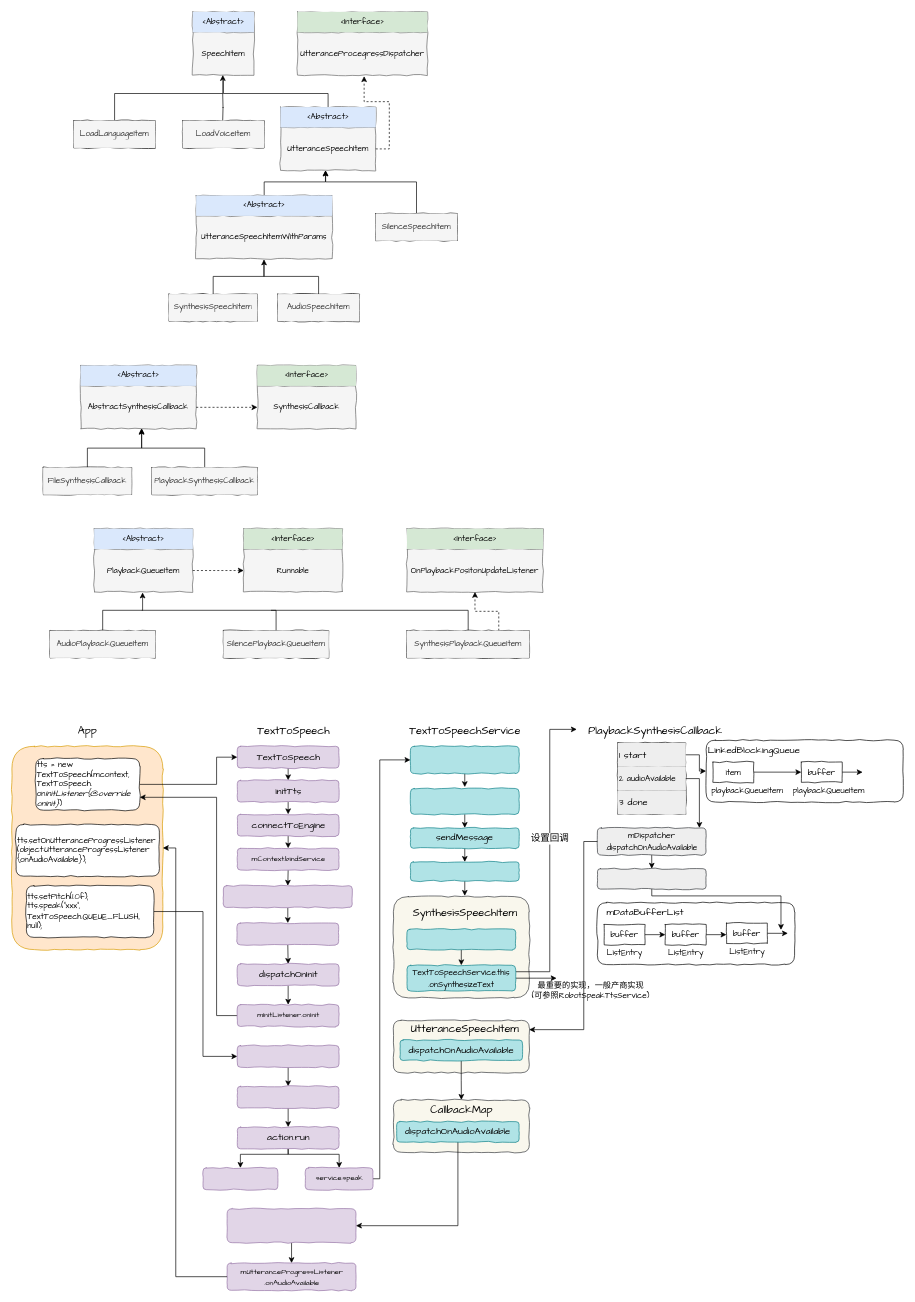
This 915x1302 diagram has some shape labels left out. The shapes that lost their labels are listed below. From the top down, each one's box as (x1, y1, x2, y2) in pixels, then its label:
(410, 746, 519, 774): new ITextToSpeechService .stub(){@speak}
(410, 788, 519, 814): mSynthHandler .enqueueSpeechItem
(410, 861, 519, 881): speechItem.play
(597, 868, 706, 889): item.put
(223, 885, 352, 907): Connection#onServiceConnected
(236, 922, 339, 945): setupConnectionAsyncTask
(406, 929, 516, 950): playImpl
(237, 1045, 339, 1067): speak
(237, 1086, 339, 1108): runAction
(202, 1167, 278, 1190): service.playAudio
(226, 1208, 356, 1243): new ITextToSpeechCallback.stub(){@onAudioAvailable}
